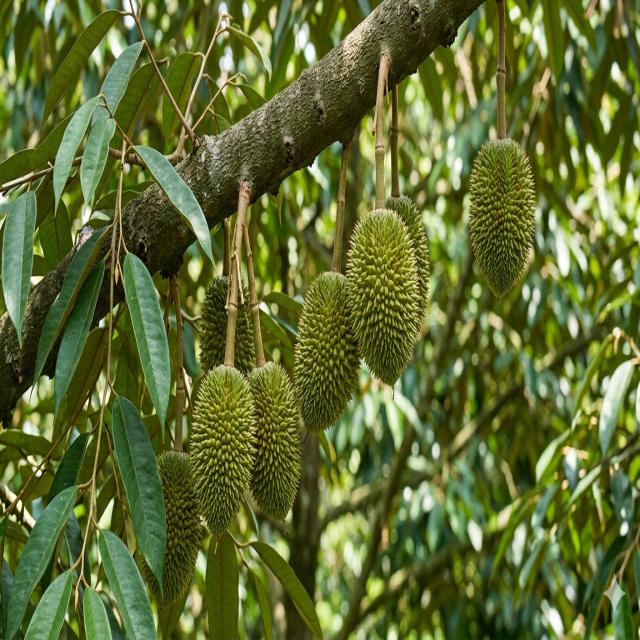immature: (346, 207, 427, 385), (188, 362, 260, 534), (466, 136, 537, 301), (295, 268, 358, 428), (146, 450, 207, 605), (246, 360, 300, 520), (197, 273, 257, 377), (384, 192, 425, 241)
